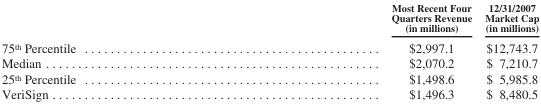table: (0, 0, 538, 101)
table column: (232, 0, 477, 101), (0, 0, 232, 101), (477, 0, 538, 101)
table column header: (0, 0, 538, 36)
table row: (0, 0, 538, 36), (0, 36, 538, 55), (0, 70, 538, 86), (0, 55, 538, 70), (0, 86, 538, 101)
